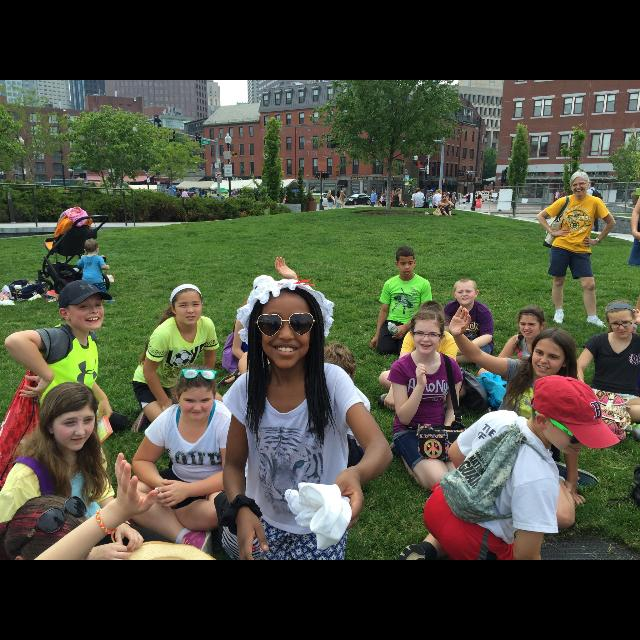head: (252, 283, 320, 371), (532, 374, 602, 456), (41, 382, 97, 452), (58, 281, 105, 331), (174, 370, 216, 422), (532, 328, 572, 378), (410, 310, 446, 354), (170, 284, 204, 326), (604, 299, 638, 339), (518, 305, 548, 339), (418, 302, 444, 338), (452, 278, 480, 306), (395, 248, 417, 276), (570, 172, 590, 196), (84, 239, 100, 257), (588, 181, 596, 189), (397, 188, 403, 194), (442, 194, 446, 202), (436, 190, 440, 196), (337, 191, 341, 195), (416, 188, 420, 192), (478, 194, 482, 198), (341, 190, 344, 193), (328, 192, 332, 194), (385, 190, 387, 194), (372, 190, 374, 192), (382, 194, 384, 196), (469, 192, 471, 194), (557, 190, 559, 192)
person: (445, 304, 601, 532), (115, 364, 245, 558), (3, 278, 115, 470), (386, 308, 474, 494), (129, 282, 221, 442), (535, 166, 617, 332), (375, 301, 461, 414), (476, 304, 560, 408), (368, 245, 437, 359), (440, 275, 496, 367), (76, 238, 114, 304), (580, 180, 604, 233), (437, 192, 455, 218), (391, 188, 407, 216), (410, 188, 426, 216), (432, 189, 444, 217), (472, 194, 483, 216), (334, 191, 344, 213), (368, 189, 378, 211), (327, 190, 335, 212), (339, 190, 347, 212), (382, 190, 388, 212), (378, 192, 384, 212), (555, 190, 561, 204), (466, 192, 472, 204)
